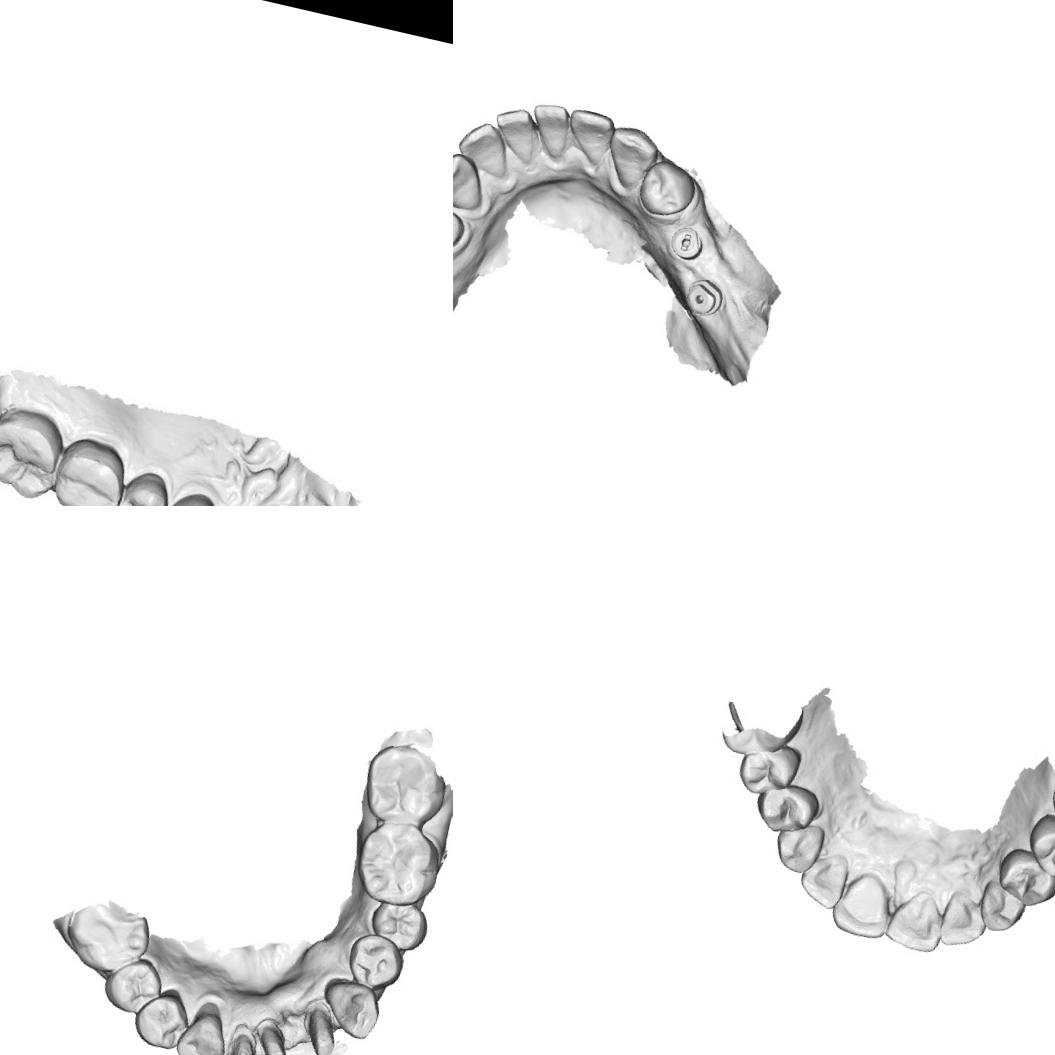canine: (312, 974, 387, 1044), (599, 121, 664, 195), (768, 815, 828, 879), (169, 1003, 236, 1055), (974, 878, 1030, 936), (453, 147, 491, 212)
crown: (292, 996, 346, 1055), (247, 1014, 299, 1055), (220, 1023, 265, 1055)
implant: (681, 274, 728, 322)
implant_minus: (665, 221, 708, 265)
incisor: (828, 866, 901, 943), (882, 886, 950, 956), (453, 115, 518, 181), (934, 886, 994, 954), (794, 846, 854, 913), (486, 102, 546, 167), (560, 104, 620, 168), (523, 99, 574, 161)
molar: (348, 814, 448, 914), (356, 736, 453, 835), (59, 892, 158, 982), (0, 402, 72, 505), (45, 432, 132, 506)
premolar: (97, 949, 168, 1018), (732, 736, 804, 804), (750, 776, 824, 842), (341, 926, 410, 994), (128, 985, 194, 1054), (633, 156, 700, 223), (991, 843, 1055, 913), (365, 893, 434, 957), (106, 459, 173, 506), (1020, 808, 1055, 886), (152, 487, 221, 506), (453, 198, 469, 261)
